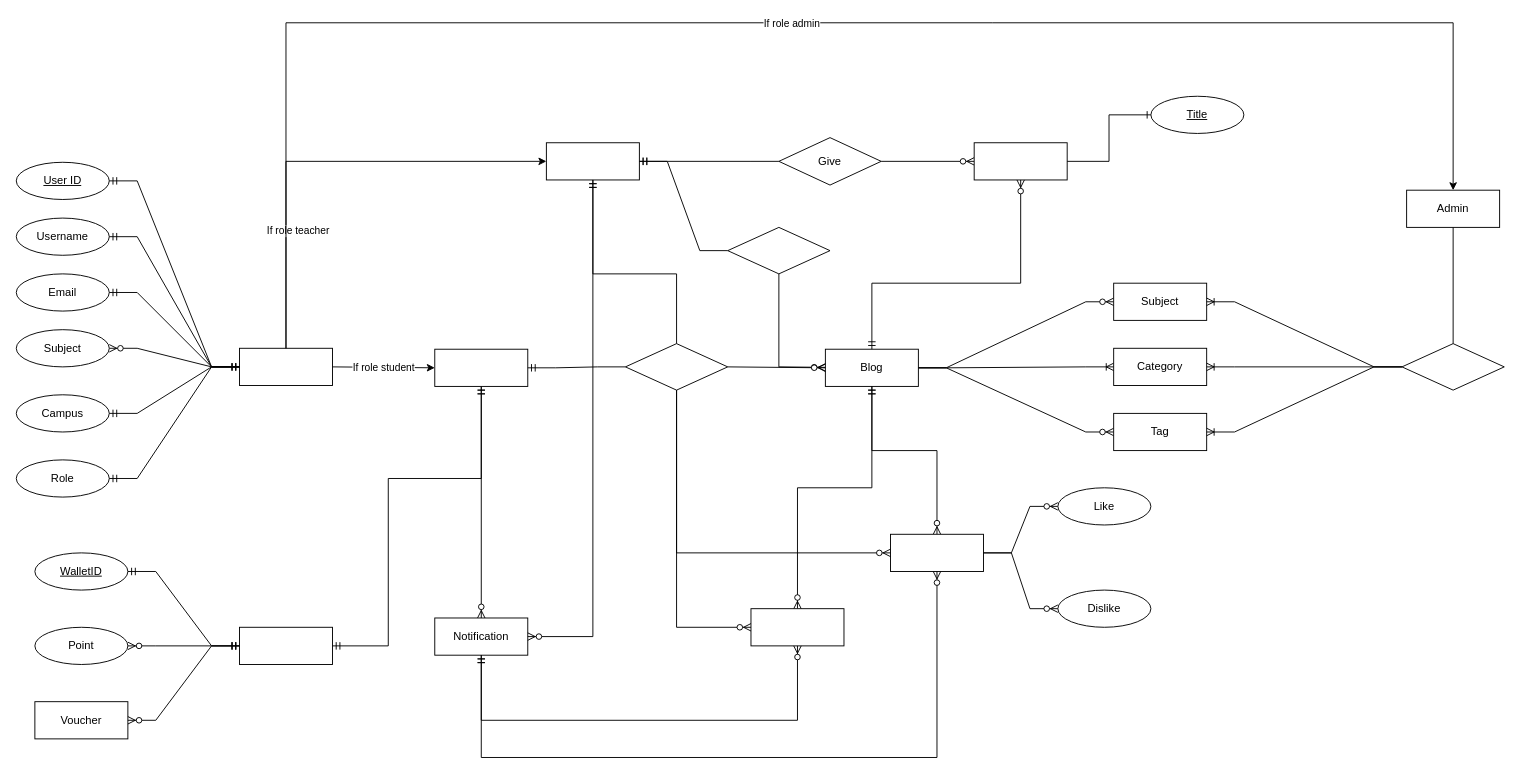
Image size: 1521x782. Some labels were removed from this diagram. The shapes that lost their labels are listed below. From the top down, each one's centre as x and y in pixels, then its label:
At (592,161): "Teacher".
At (1020,161): "Award".
At (778,250): "Approve".
At (285,366): "User".
At (481,367): "Student".
At (676,366): "Post".
At (1452,366): "Create".
At (936,552): "Blog reaction".
At (285,645): "Wallet".
At (797,627): "Blog comment".
